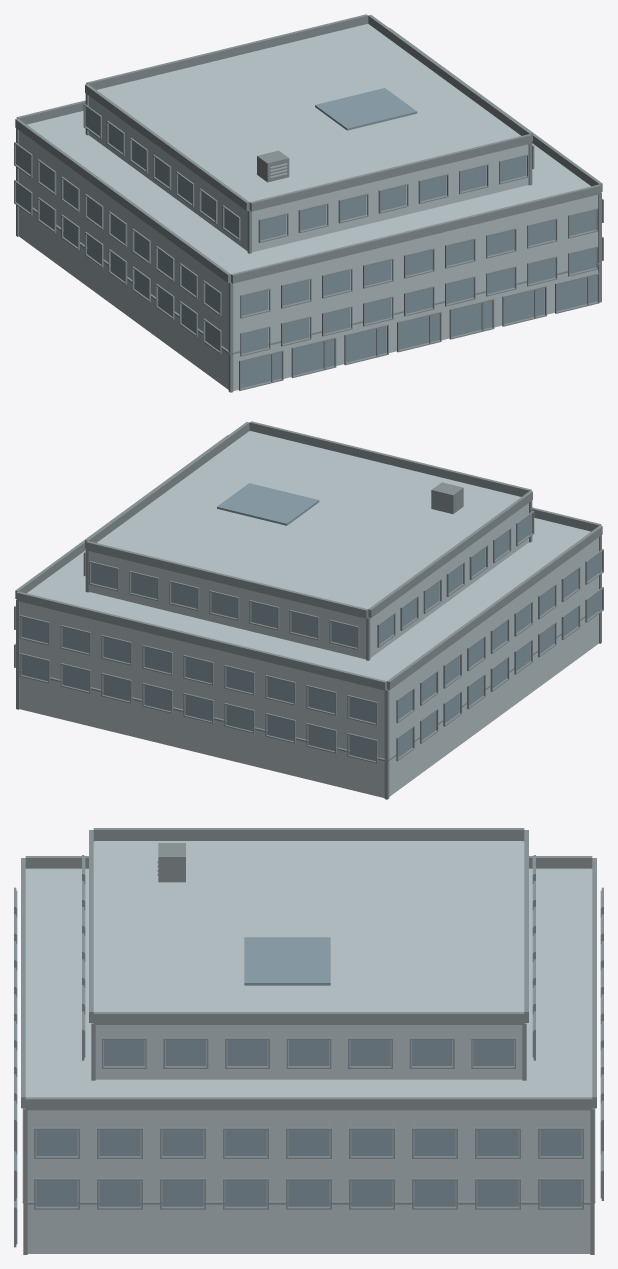
Rendered from lot_4x4_slab.glb.
The picture shows the model from 3 angles, top to bottom: view 1: azimuth 30°, elevation 25°; view 2: azimuth 150°, elevation 25°; view 3: azimuth 270°, elevation 25°; orthographic projection. The views are drawn at different scales.
Parts seen in each view (by area): view 1: lot_4x4_slab; view 2: lot_4x4_slab; view 3: lot_4x4_slab.
Part boxes in pixels (x1,y1,x2,y2): lot_4x4_slab: [14, 14, 603, 392]; lot_4x4_slab: [14, 421, 603, 799]; lot_4x4_slab: [14, 828, 603, 1254].
Size of the model in its own units: 31.74 by 13.5 by 31.74.
